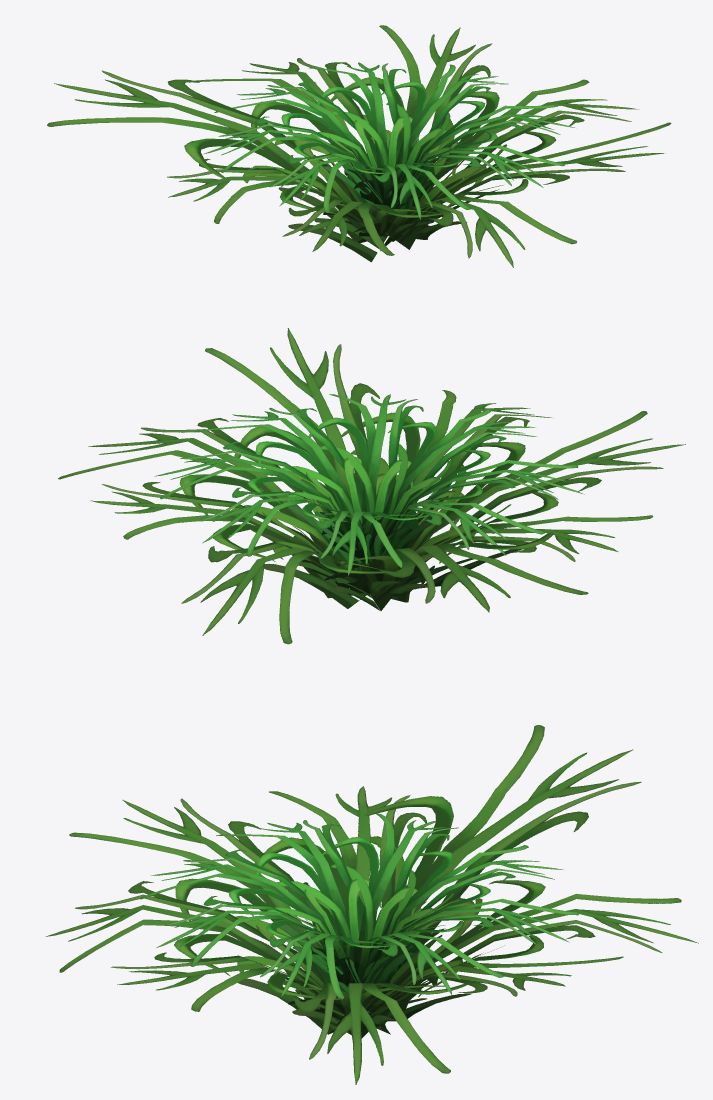
The model's file is 植被草07.FBX.
The picture shows the model from 3 angles, top to bottom: view 1: azimuth 30°, elevation 25°; view 2: azimuth 150°, elevation 25°; view 3: azimuth 270°, elevation 25°; orthographic projection. The views are drawn at different scales.
Visible parts, largest first — view 1: 植被草07; view 2: 植被草07; view 3: 植被草07.
Boxes of the visible parts, x1,y1,x2,y2 form: 植被草07: [47, 25, 671, 267]; 植被草07: [58, 328, 685, 644]; 植被草07: [45, 725, 698, 1084].
Bounding box in the file's own units: 242 × 49.93 × 214.
Materials: 2 (2 with a texture image).
